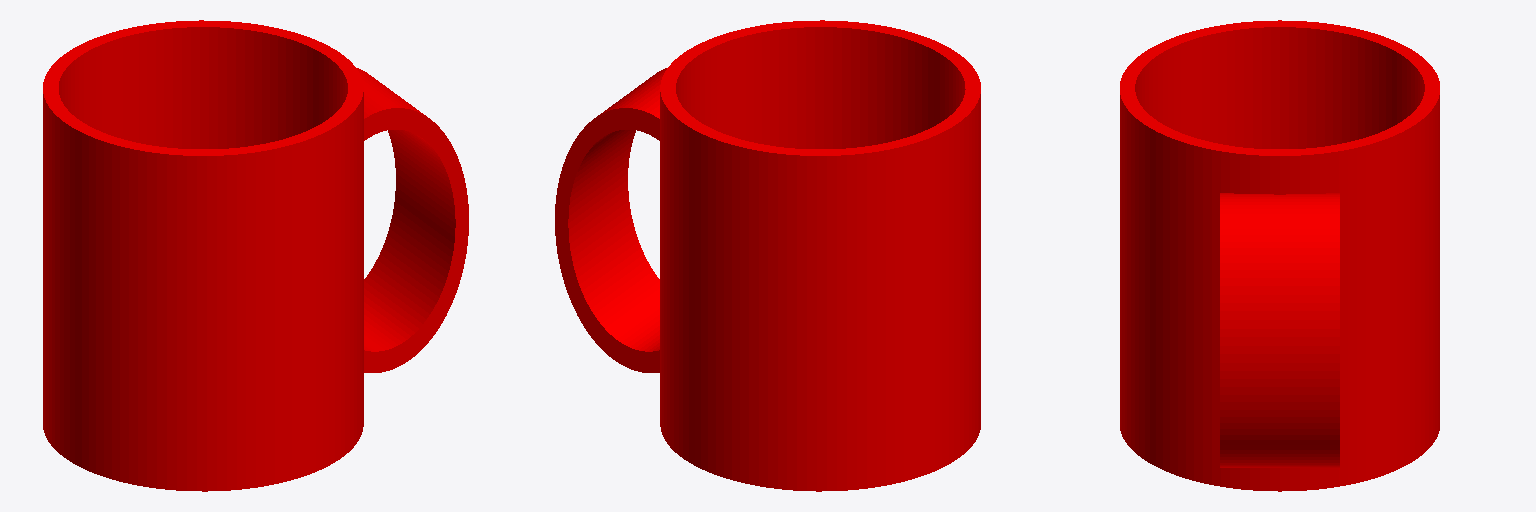
The robot description file, URDF, robot "mug.urdf":
<?xml version="1.0" ?>
<robot name="mug.urdf">
  <link name="baseLink">
    <inertial>
      <origin rpy="0 0 0" xyz="0 0 0"/>
       <mass value=".1"/>
       <inertia ixx="1" ixy="0" ixz="0" iyy="1" iyz="0" izz="1"/>
    </inertial>
    <visual>
      <origin rpy="0 0 0" xyz="0 0 0"/>
      <geometry>
        <mesh filename="2.stl" scale="1 1 1" />
      </geometry>
      <material name="red">
        <color rgba="1 0 0 1"/>
      </material>
    </visual>
    <collision>
      <origin rpy="0 0 0" xyz="0 0 0"/>
      <geometry>
        <mesh filename="2_convex.obj" scale="1 1 1" />
      </geometry>
    </collision>
  </link>
</robot>

--- Render facts (derived) ---
3 views of the same robot in one strip: view 1: azimuth 30°, elevation 25°; view 2: azimuth 150°, elevation 25°; view 3: azimuth 270°, elevation 25° (orthographic).
Robot: mug.urdf — 1 links, 0 joints (none); root link baseLink; default pose: every joint at zero.
Visible links, largest first — view 1: baseLink; view 2: baseLink; view 3: baseLink.
Link boxes in pixels (<box>): baseLink: <box>43,20,468,491</box>; baseLink: <box>555,20,980,491</box>; baseLink: <box>1120,20,1439,491</box>.
Bounding box of the posed robot: 0.1384 × 0.1026 × 0.1183 m (x, y, z).
Meshes: 1 distinct files referenced, 1 mesh visuals loaded (1 binary STL).